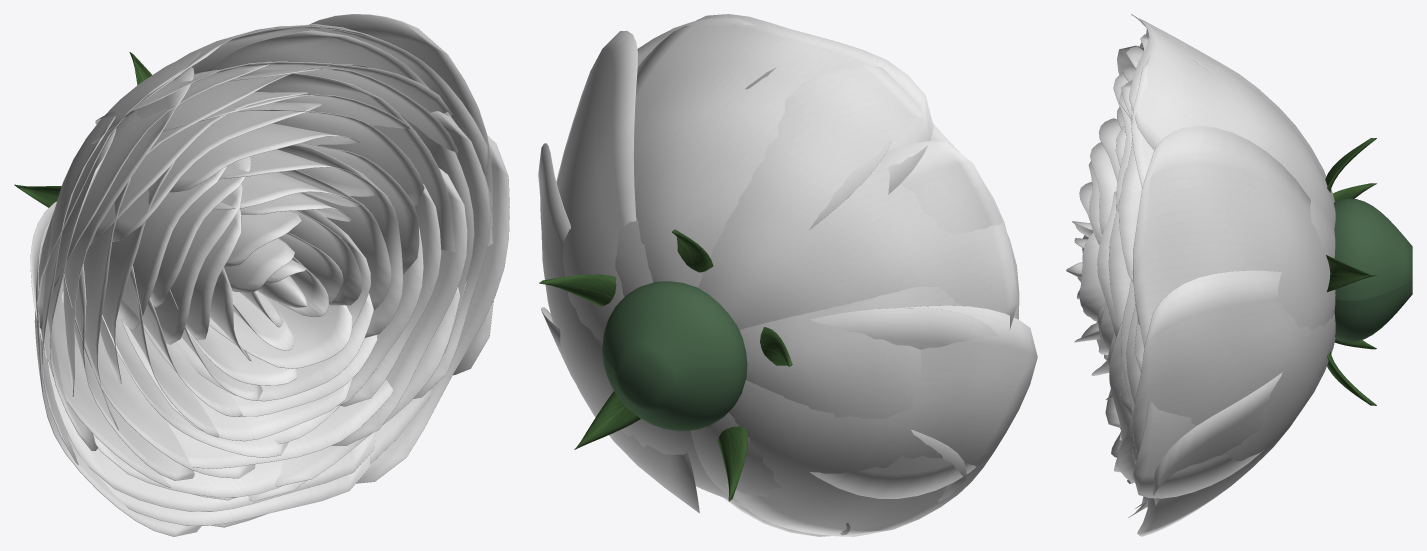
The model's file is rose-0-balanced.glb.
3 renders of one model, left to right at view 1: azimuth 30°, elevation 25°; view 2: azimuth 150°, elevation 25°; view 3: azimuth 270°, elevation 25°, orthographic. The views are drawn at different scales.
Visible parts, largest first — view 1: Rose_0_balanced_Petals, Rose_0_balanced_Sepals; view 2: Rose_0_balanced_Petals, Rose_0_balanced_Receptacle, Rose_0_balanced_Sepals; view 3: Rose_0_balanced_Petals, Rose_0_balanced_Receptacle, Rose_0_balanced_Sepals.
Part boxes in pixels (bbox=[...]): Rose_0_balanced_Petals: bbox=[30, 14, 509, 536]; Rose_0_balanced_Sepals: bbox=[14, 52, 151, 207]; Rose_0_balanced_Petals: bbox=[538, 14, 1037, 536]; Rose_0_balanced_Receptacle: bbox=[602, 281, 747, 431]; Rose_0_balanced_Sepals: bbox=[539, 229, 792, 501]; Rose_0_balanced_Petals: bbox=[1066, 14, 1335, 536]; Rose_0_balanced_Receptacle: bbox=[1333, 198, 1412, 342]; Rose_0_balanced_Sepals: bbox=[1325, 138, 1376, 405].
Size of the model in its own units: 0.7572 by 0.7426 by 0.5047.
Materials: 3 (2 with a texture image).
